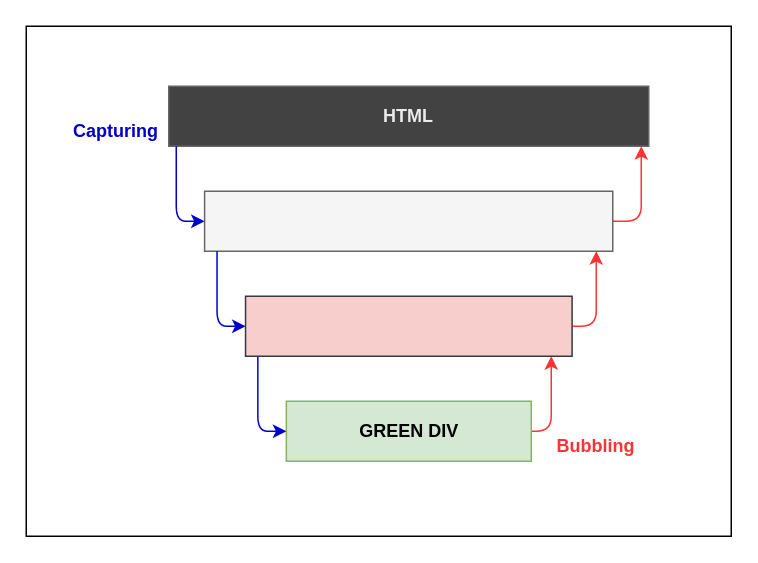
This 758x563 diagram has some shape labels left out. The shapes that lost their labels are listed below. From the top down, each one's centre as x and y in pixels, then its label:
the point at 408,220: BODY
the point at 408,325: PINK DIV
